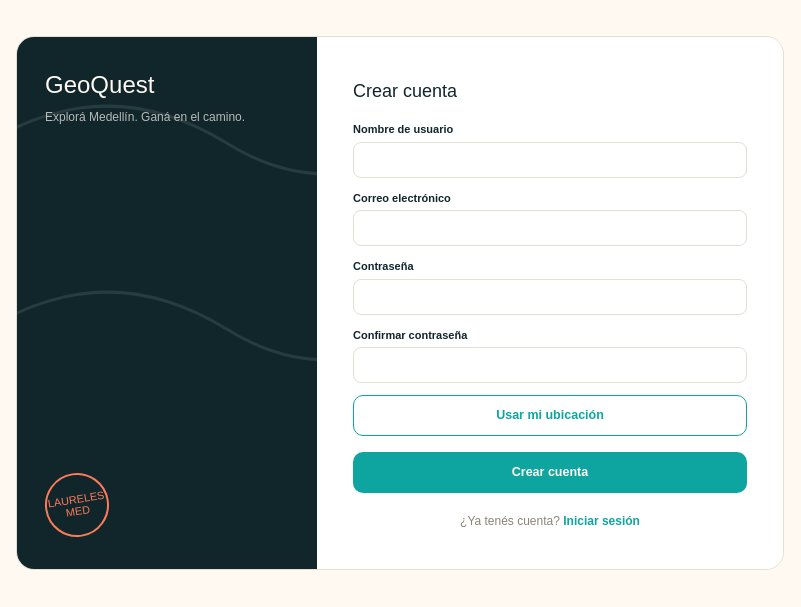
Test case: RegisterPage › shows the client-owned localized duplicate-account message, never the raw server detail (D4)
Type "nachomed" into the field labelled "Nombre de usuario". click: coordinates (550, 160)
box: x1=353 y1=142 x2=747 y2=178
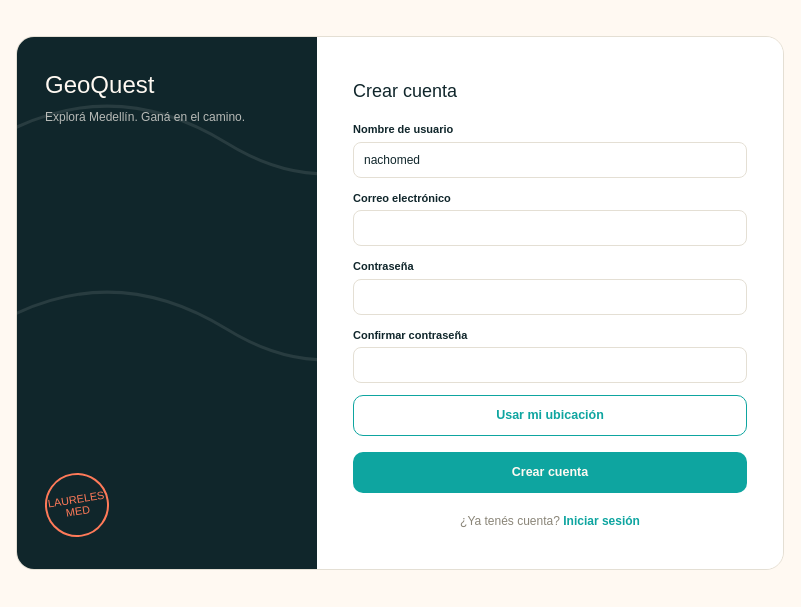
Type "nachomed@example.com" into the field labelled "Correo electrónico". click: coordinates (550, 228)
box: x1=353 y1=210 x2=747 y2=246
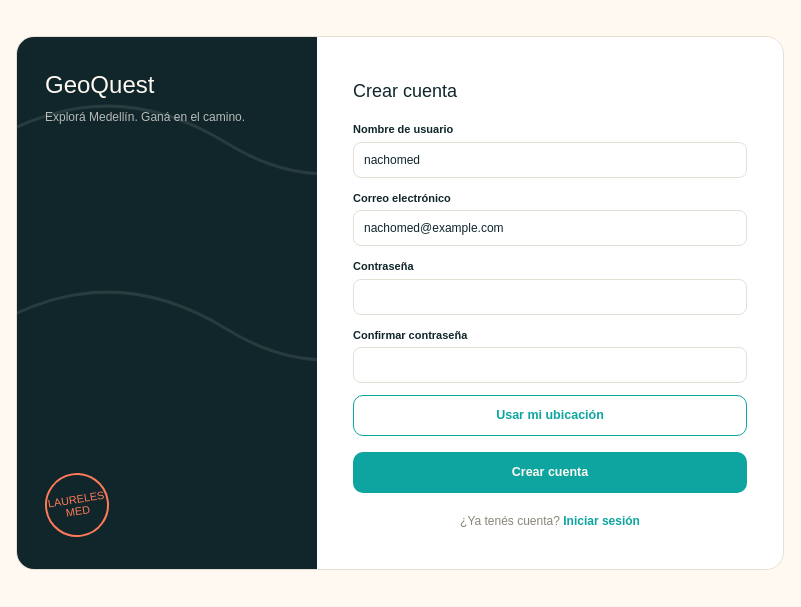
Type "password123" into the password field labelled "Contraseña". click: coordinates (550, 297)
box: x1=353 y1=279 x2=747 y2=315
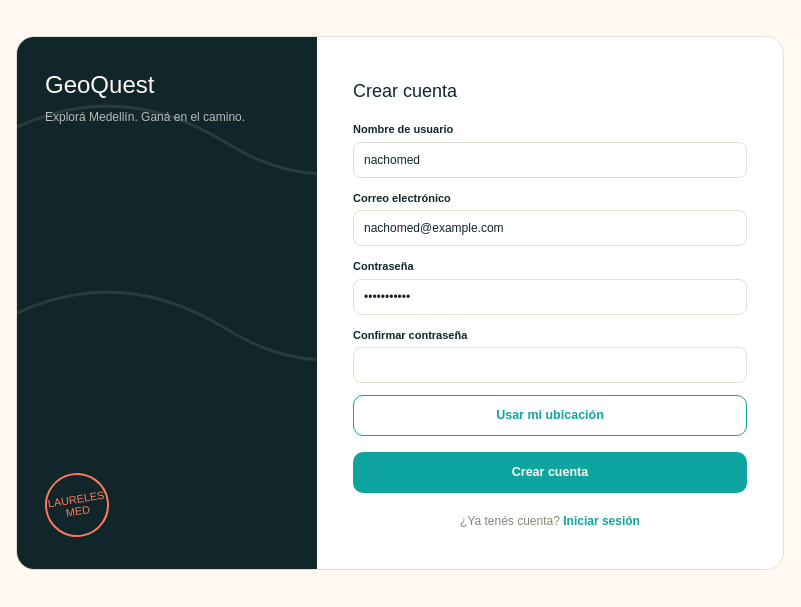
Type "password123" into the password field labelled "Confirmar contraseña". click: coordinates (550, 365)
box: x1=353 y1=347 x2=747 y2=383
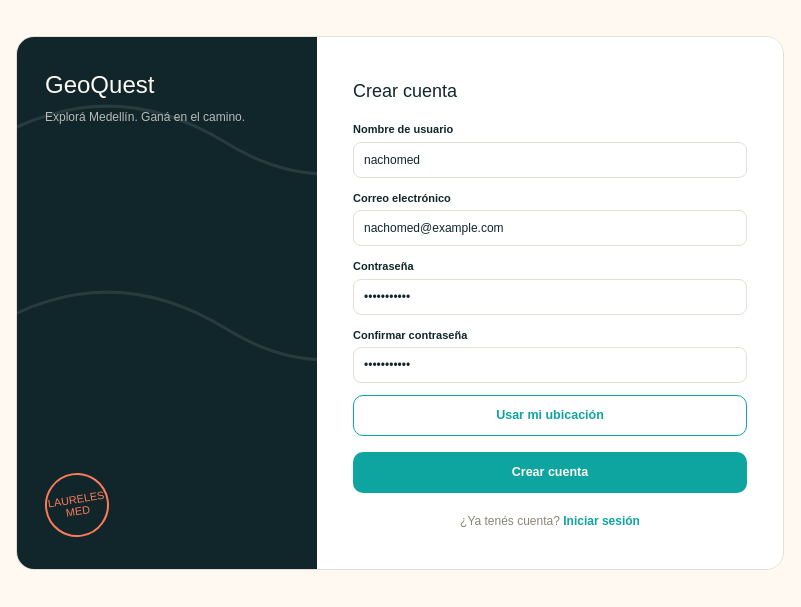
Click the button "Crear cuenta". click: coordinates (550, 472)
box: x1=353 y1=452 x2=747 y2=493
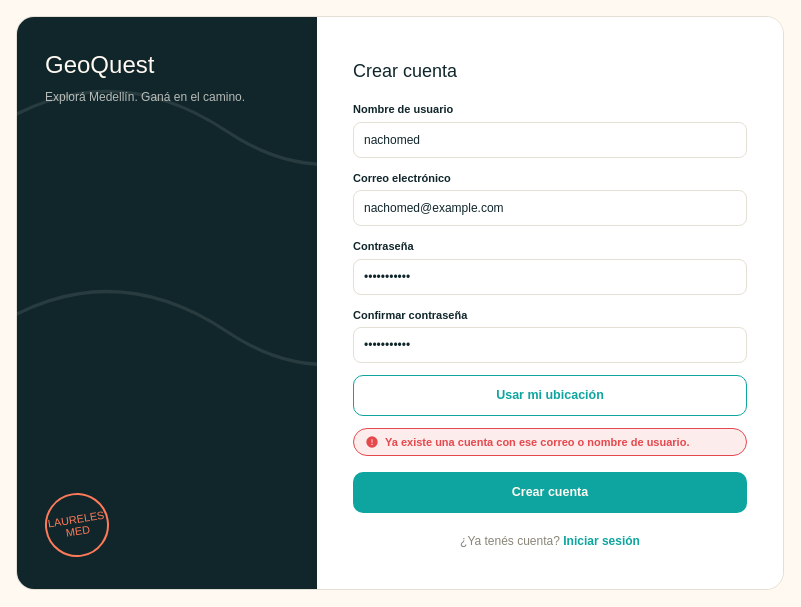
Expected: the text "Ya existe una cuenta con ese correo o nombre de usuario." is shown, x1=353 y1=428 x2=747 y2=456
